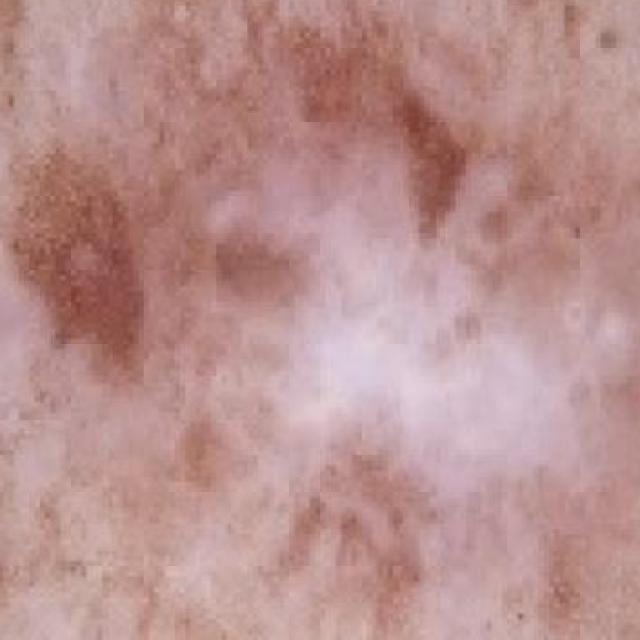DF: (0, 0, 640, 620)
